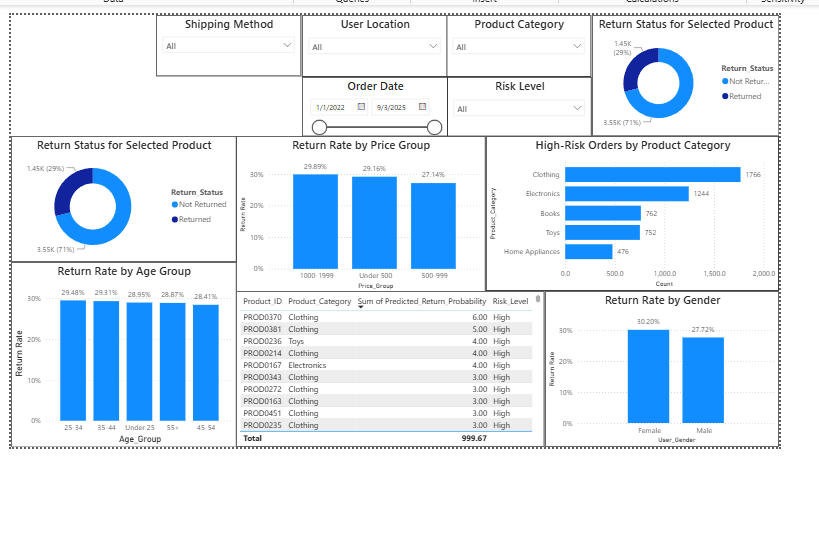

This screenshot's page, from the dashboard's own definition file:
{"tool":"powerbi","page":{"name":"Page 2","canvas":[1280,720],"ordinal":1},"visuals":[{"type":"clusteredColumnChart","title":"Return Rate by Age Group","fields":{"Category":["ecommerce_return_powerbi.Age_Group"],"Y":["ecommerce_return_powerbi.Return Rate"]},"box":[0,411.4,375.7,308.6],"z":0},{"type":"clusteredColumnChart","title":"Return Rate by Price Group","fields":{"Category":["ecommerce_return_powerbi.Price_Group"],"Y":["ecommerce_return_powerbi.Return Rate"]},"box":[375.7,201.4,415.7,261.4],"z":1000},{"type":"clusteredColumnChart","title":"Return Rate by Gender","fields":{"Category":["ecommerce_return_powerbi.User_Gender"],"Y":["ecommerce_return_powerbi.Return Rate"]},"box":[890,460,390,260],"z":2000},{"type":"tableEx","title":"High-Risk Products","fields":{"Values":["ecommerce_return_powerbi.Product_ID","ecommerce_return_powerbi.Product_Category","Sum(ecommerce_return_powerbi.Predicted_Return_Probability)","ecommerce_return_powerbi.Risk_Level"]},"box":[375.7,460,514.3,260],"z":3000},{"type":"clusteredBarChart","title":"High-Risk Orders by Product Category","fields":{"Category":["ecommerce_return_powerbi.Product_Category"],"Y":["CountNonNull(ecommerce_return_powerbi.Order_ID)"]},"box":[792,202,488,258],"z":4000},{"type":"slicer","title":"Product Category","fields":{"Values":["ecommerce_return_powerbi.Product_Category"]},"box":[725.8,0,242.3,102.7],"z":5000},{"type":"slicer","title":"User Location","fields":{"Values":["ecommerce_return_powerbi.User_Location"]},"box":[484.6,0,242.3,102.7],"z":6000},{"type":"slicer","title":"Risk Level","fields":{"Values":["ecommerce_return_powerbi.Risk_Level"]},"box":[726.9,102.7,241.2,99.2],"z":7000},{"type":"slicer","title":"Shipping Method ","fields":{"Values":["ecommerce_return_powerbi.Shipping_Method"]},"box":[242.2,0,242.2,102.2],"z":8000},{"type":"slicer","title":"Order Date","fields":{"Values":["ecommerce_return_powerbi.Order_Date"]},"box":[484.6,102.7,243.5,99.2],"z":9000},{"type":"donutChart","title":"Return Status for Selected Product","fields":{"Category":["ecommerce_return_powerbi.Return_Status"],"Y":["CountNonNull(ecommerce_return_powerbi.Order_ID)"]},"box":[0,201.4,375.7,210],"z":10000},{"type":"donutChart","title":"Return Status for Selected Product","fields":{"Category":["ecommerce_return_powerbi.Return_Status"],"Y":["CountNonNull(ecommerce_return_powerbi.Order_ID)"]},"box":[968.1,0,311.5,201.9],"z":10001}]}

Visuals, with their boxes in screenshot pixels (x1, y1, x2, y2):
"Return Rate by Age Group" clusteredColumnChart: x1=2 y1=261 x2=231 y2=449
"Return Rate by Price Group" clusteredColumnChart: x1=231 y1=133 x2=484 y2=292
"Return Rate by Gender" clusteredColumnChart: x1=544 y1=291 x2=781 y2=449
"High-Risk Products" tableEx: x1=231 y1=291 x2=544 y2=449
"High-Risk Orders by Product Category" clusteredBarChart: x1=484 y1=134 x2=781 y2=291
"Product Category" slicer: x1=444 y1=11 x2=591 y2=73
"User Location" slicer: x1=297 y1=11 x2=445 y2=73
"Risk Level" slicer: x1=445 y1=73 x2=591 y2=134
"Shipping Method " slicer: x1=150 y1=11 x2=297 y2=73
"Order Date" slicer: x1=297 y1=73 x2=445 y2=134
"Return Status for Selected Product" donutChart: x1=2 y1=133 x2=231 y2=261
"Return Status for Selected Product" donutChart: x1=591 y1=11 x2=781 y2=134
